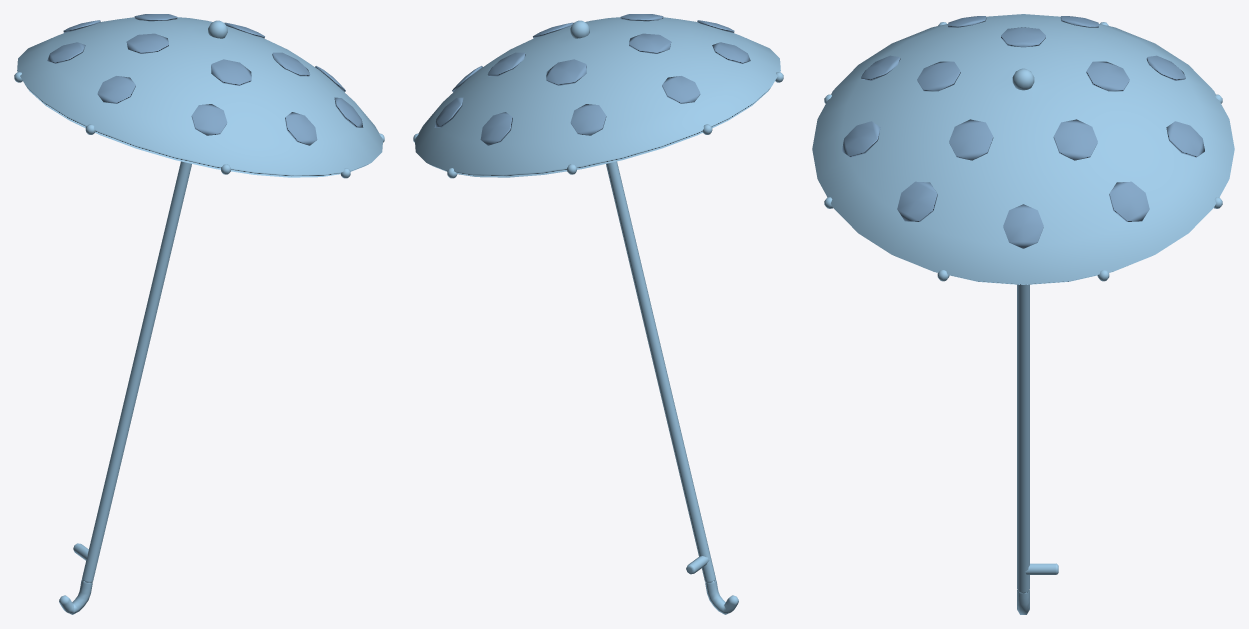
Rendered from fish_umbrella.glb.
The picture shows the model from 3 angles, left to right: view 1: azimuth 30°, elevation 25°; view 2: azimuth 150°, elevation 25°; view 3: azimuth 270°, elevation 25°; orthographic projection. The views are drawn at different scales.
Parts seen in each view (by area): view 1: fish_umbrella_ArmR; view 2: fish_umbrella_ArmR; view 3: fish_umbrella_ArmR.
Boxes of the visible parts, x1,y1,x2,y2 form: fish_umbrella_ArmR: (14, 14, 384, 614); fish_umbrella_ArmR: (413, 14, 783, 614); fish_umbrella_ArmR: (812, 14, 1234, 614).
Size of the model in its own units: 0.8703 by 1.47 by 0.9.
